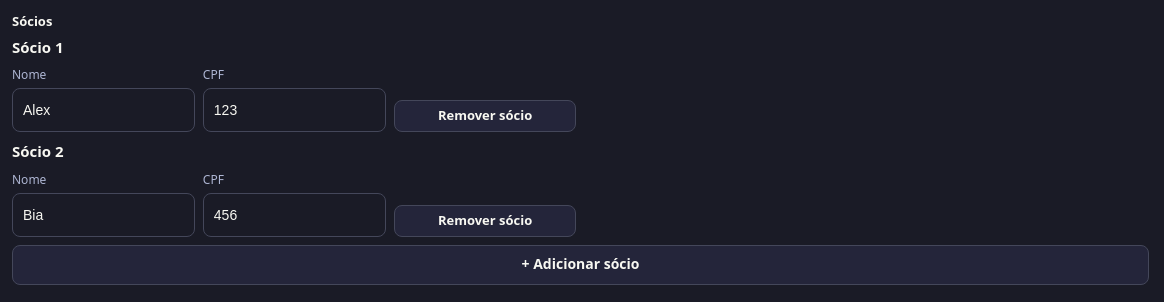
Test: campos de sócios mantêm rótulos e valores ao editar, remover e adicionar linhas
Replace the text in the field named "Sócios — Nome (linha 2)" with "Beatriz" at (103, 214), box 12,192 -> 195,236
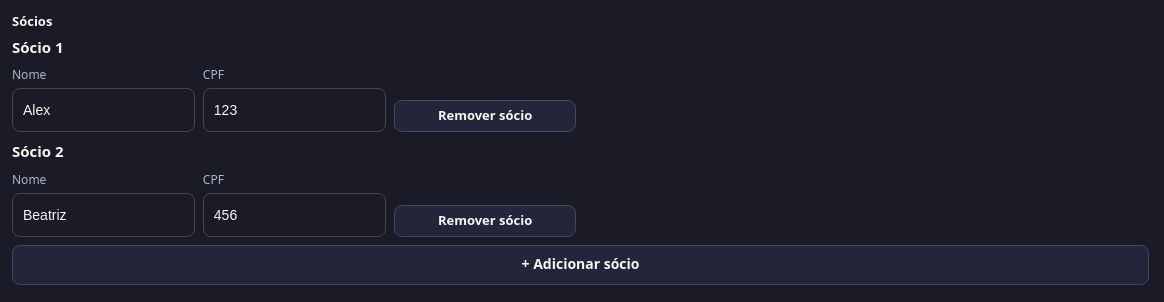
Click the button with aria-label "Remover sócio 1" at (485, 116), box 394,100 -> 576,132
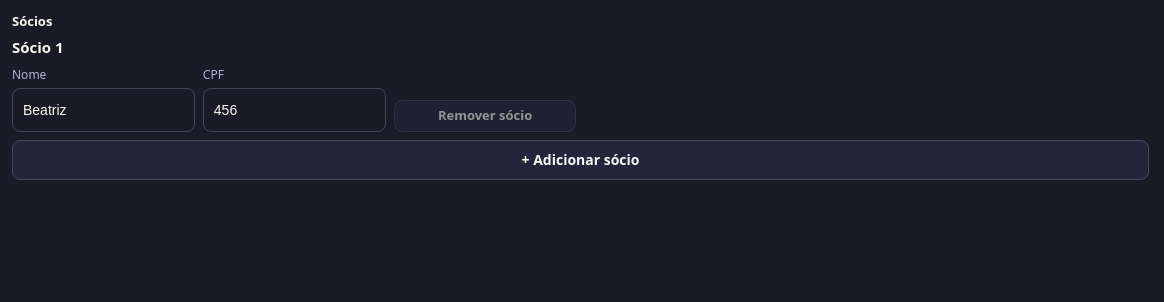
Expected: the field named "Sócios — Nome (linha 1)" holds "Beatriz", 12,88 -> 195,132
Expected: the field named "Sócios — CPF (linha 1)" holds "456", 203,88 -> 386,132
Click the button "+ Adicionar sócio" at (580, 160), box 12,140 -> 1149,180
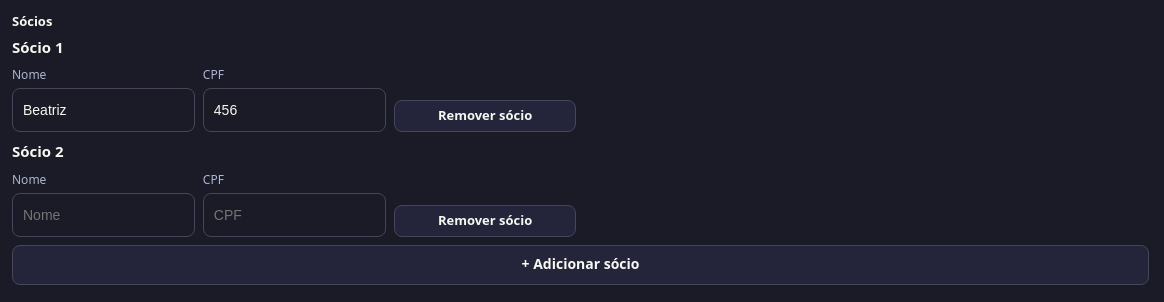
Expected: the field named "Sócios — Nome (linha 2)" is empty, 12,192 -> 195,236
Expected: the text "Nome" is shown 2 times, 12,66 -> 46,83; 12,170 -> 46,188
